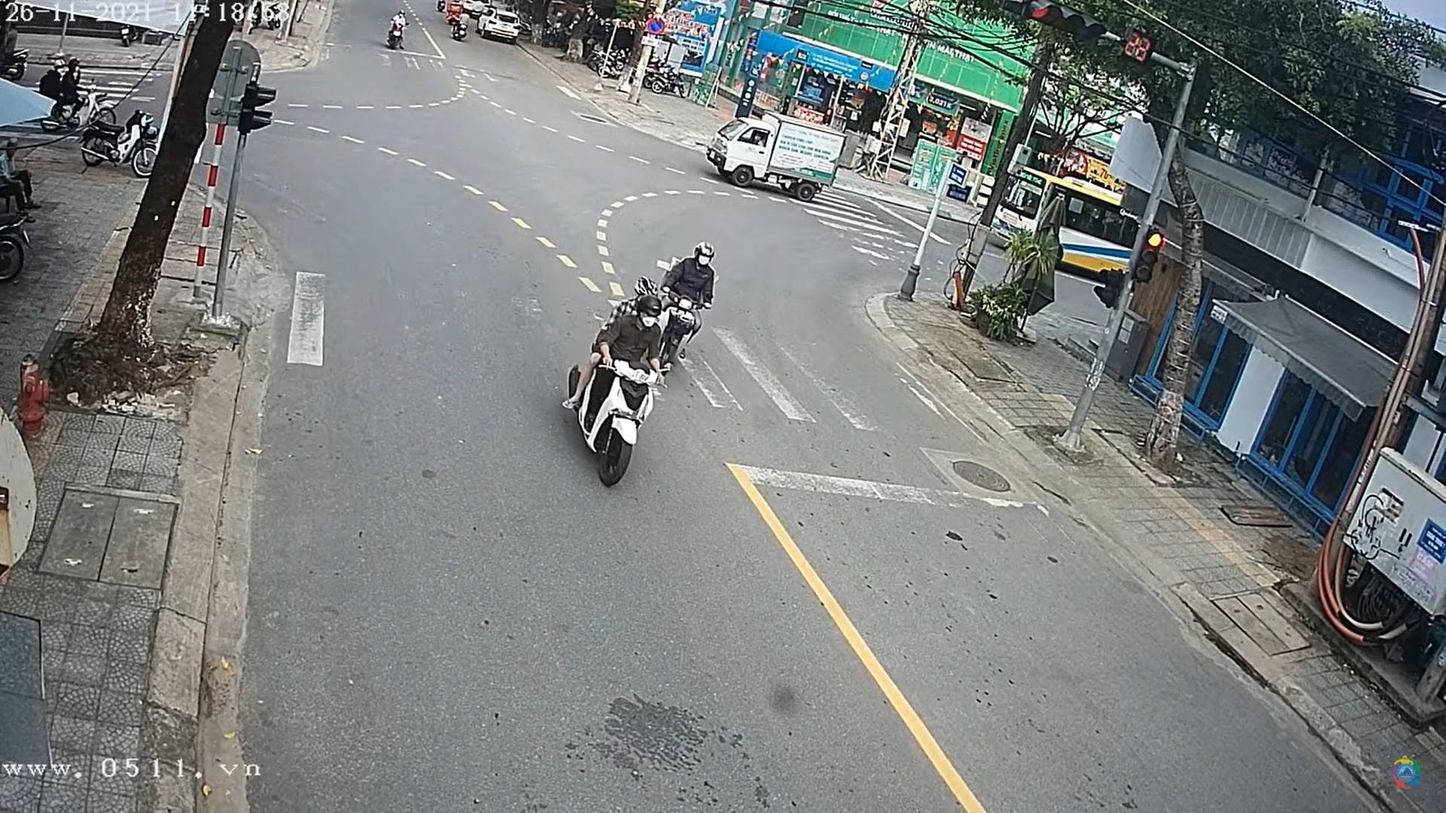bus: (993, 170, 1142, 281)
motorbike: (563, 322, 665, 485), (385, 17, 409, 50)
truck: (701, 115, 845, 201)
